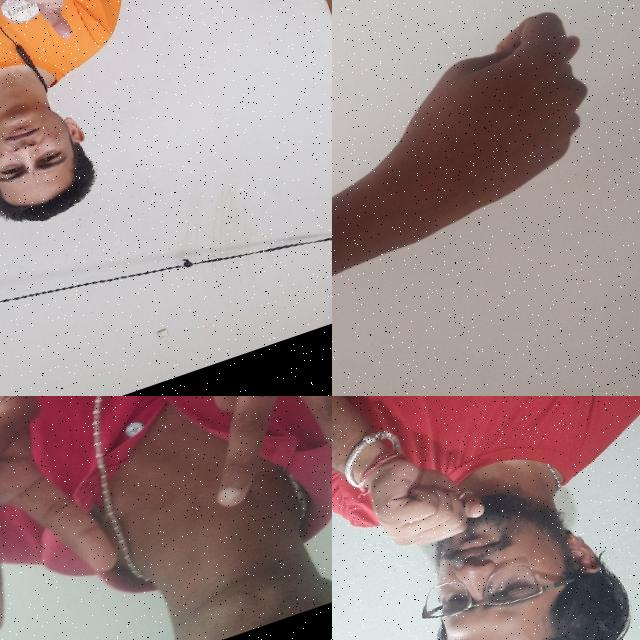Dulya: (332, 0, 634, 266)
Fist Mouth: (334, 396, 633, 640)
Reversed Victory: (128, 396, 332, 529)
Thumbs Up: (0, 0, 99, 58)
